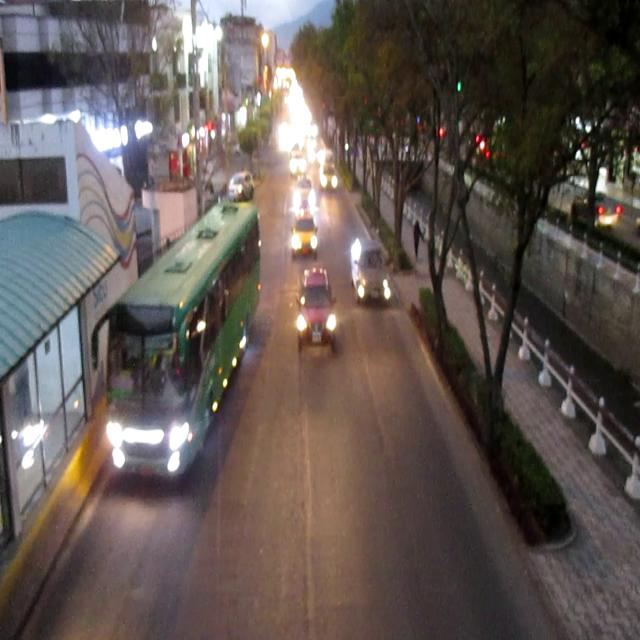BUS: (104, 204, 260, 476)
